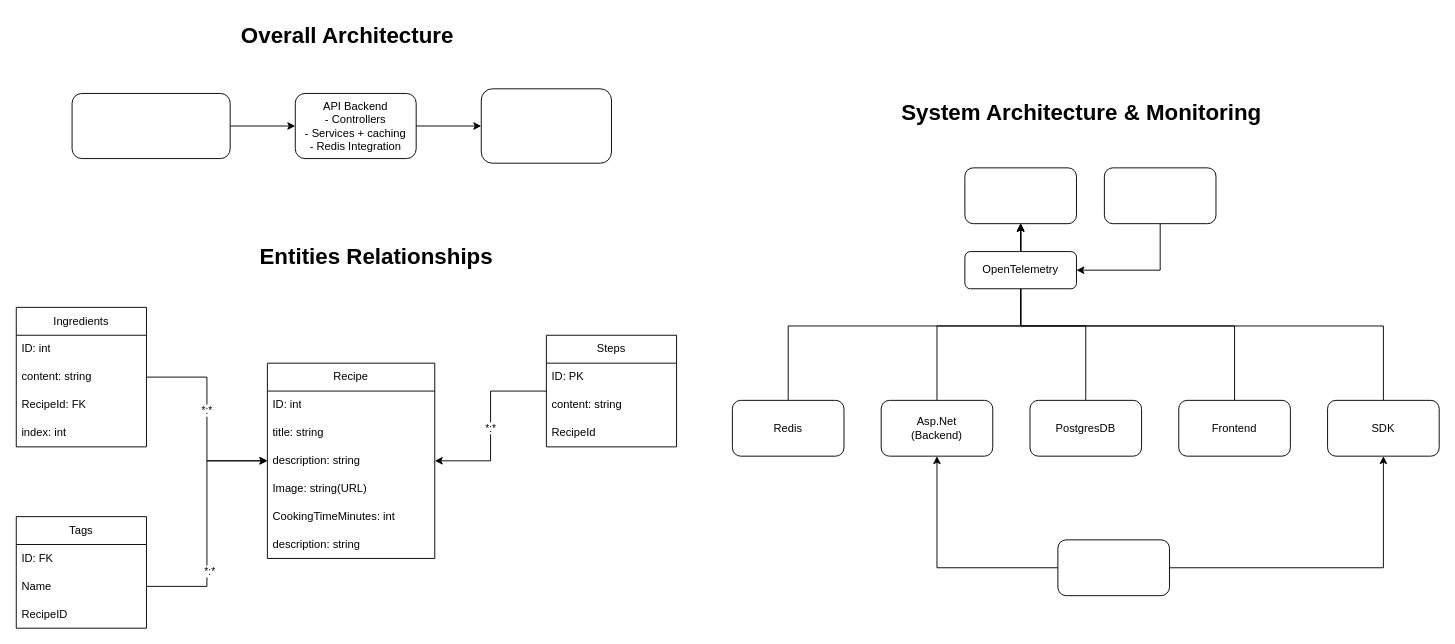
This 1455x644 diagram has some shape labels left out. Each missing label, with the centre of its shape:
"App.Host (Aspire)" goes at (x=1020, y=195).
"Data (EF Core + SQL) - Recipes, Tags, Ingredients, Steps" goes at (x=545, y=125).
"Frontend - Vuetiify UI/Ux - Tabbed recipe editor - Search UI" goes at (x=150, y=126).
"ServiceDefaults (Aspire)" goes at (x=1159, y=195).
"WebTests" goes at (x=1113, y=567).
